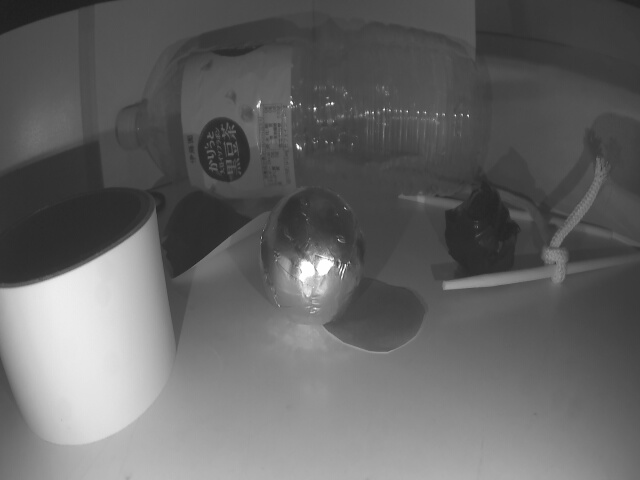Dead: (448, 182, 518, 270)
Live: (266, 189, 362, 323)
